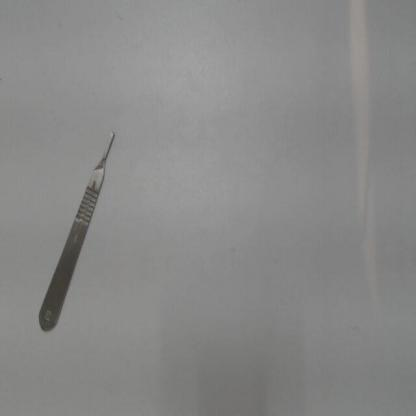No.3 BP Handle: (33, 121, 124, 341)
